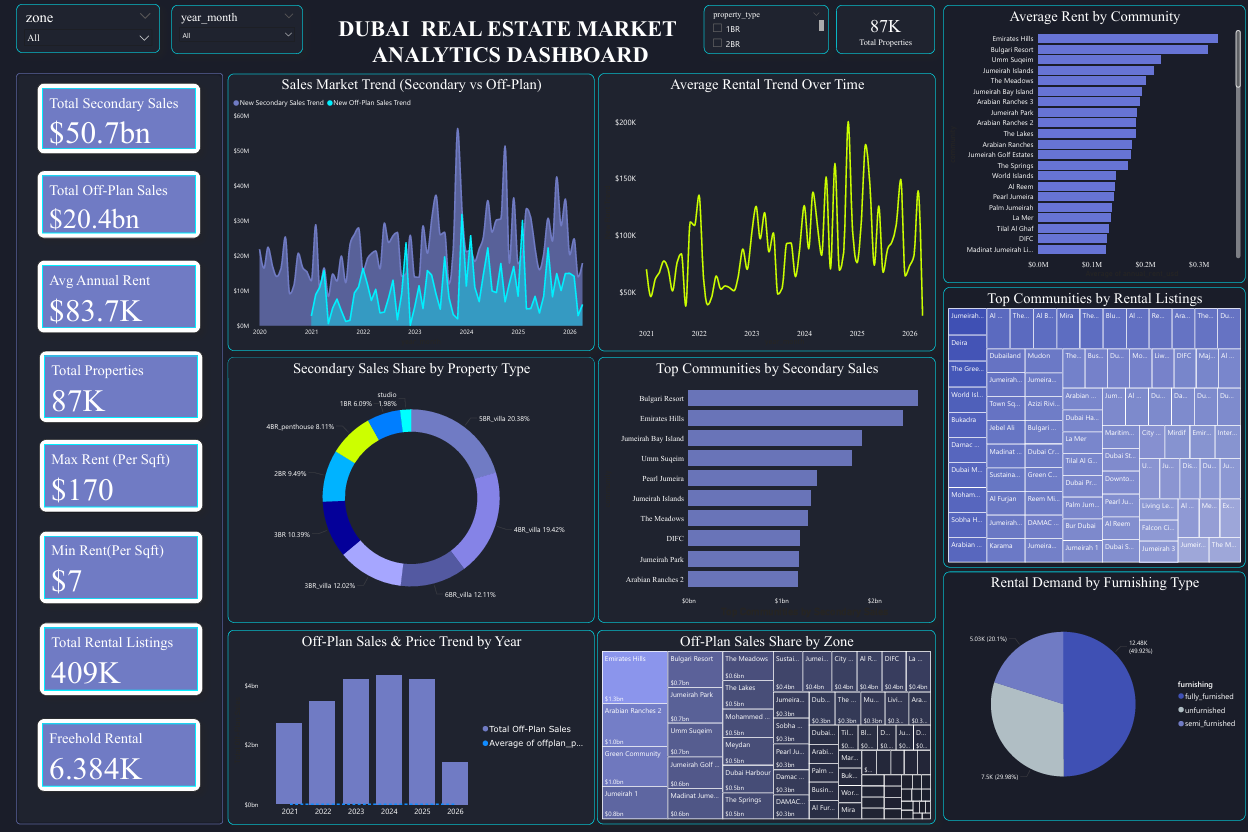

Layout of this report page (visuals, bound fields, positions):
{"tool":"powerbi","page":{"name":"Page 1","canvas":[2413,2400],"ordinal":0},"visuals":[{"type":"shape","box":[40,153.3,396.7,1441.7],"z":0},{"type":"cardVisual","fields":{"Data":["area_prices_monthly.Total Secondary Sales"]},"box":[80,172,314,136],"z":1000},{"type":"cardVisual","fields":{"Data":["area_prices_monthly.Total Off-Plan Sales"]},"box":[80,340,314,130],"z":2000},{"type":"cardVisual","fields":{"Data":["area_prices_monthly.Avg Annual Rent"]},"box":[80,512,314,140],"z":3000},{"type":"cardVisual","fields":{"Data":["area_prices_monthly.Total Properties"]},"box":[84,686,314,138],"z":4000},{"type":"areaChart","title":"Sales Market Trend (Secondary vs Off-Plan)","fields":{"Category":["area_prices_monthly.year_month"],"Y":["secondary_sales.New Secondary Sales Trend","secondary_sales.New Off-Plan Sales Trend"]},"box":[446,154,704,532],"z":5000},{"type":"lineChart","title":"Average Rental Trend Over Time","fields":{"Category":["area_prices_monthly.year_month"],"Y":["area_prices_monthly.New Rent Trend"]},"box":[1156.7,153.3,648.3,533.3],"z":6000},{"type":"donutChart","title":"Secondary Sales Share by Property Type","fields":{"Category":["secondary_sales.property_type"],"Y":["area_prices_monthly.Total Secondary Sales"]},"box":[446,698,704,510],"z":7000},{"type":"clusteredBarChart","title":"Top Communities by Secondary Sales","fields":{"Category":["secondary_sales.community"],"Y":["secondary_sales.New Secondary Sales Trend"]},"box":[1156.7,698.3,648.3,510],"z":8000},{"type":"cardVisual","fields":{"Data":["Max(area_prices_monthly.rental_price_per_sqft_annual_usd)"]},"box":[84,856,314,140],"z":9000},{"type":"cardVisual","fields":{"Data":["Min(area_prices_monthly.rental_price_per_sqft_annual_usd)"]},"box":[84,1032,314,140],"z":10000},{"type":"cardVisual","fields":{"Data":["Sum(area_prices_monthly.n_listings_rental)"]},"box":[84,1208,314,140],"z":11000},{"type":"cardVisual","fields":{"Data":["CountNonNull(area_prices_monthly.is_freehold)"]},"box":[80,1392,314,140],"z":12000},{"type":"textbox","title":"DUBAI REAL ESTATE MARKET ANALYTICS","box":[522,38,922,116],"z":13000},{"type":"lineStackedColumnComboChart","title":"Off-Plan Sales & Price Trend by Year","fields":{"Category":["off_plan.date_listed.Variation.Date Hierarchy.Year"],"Y":["area_prices_monthly.Total Off-Plan Sales"],"Y2":["Avg(area_prices_monthly.offplan_price_per_sqft_usd)"]},"box":[446,1222,704,374],"z":14000},{"type":"treemap","title":"Off-Plan Sales Share by Zone","fields":{"Group":["off_plan.community"],"Values":["area_prices_monthly.Total Off-Plan Sales"]},"box":[1155,1221.7,650,373.3],"z":15000},{"type":"slicer","fields":{"Values":["area_prices_monthly.zone"]},"box":[40,20,276,94],"z":16000},{"type":"card","fields":{"Values":["area_prices_monthly.Total Properties"]},"box":[1614,22,190,94],"z":17000},{"type":"slicer","fields":{"Values":["area_prices_monthly.year_month"]},"box":[338,22,252,94],"z":18000},{"type":"slicer","fields":{"Values":["rentals.property_type"]},"box":[1360,22,240,94],"z":19000},{"type":"clusteredBarChart","title":"Average Rent by Community","fields":{"Category":["rentals.community"],"Y":["Avg(rentals.annual_rent_usd)"]},"box":[1820,22,580,534],"z":20000},{"type":"treemap","title":"Top Communities by Rental Listings","fields":{"Group":["rentals.community"],"Values":["Count(rentals.id)"]},"box":[1820,564,580,538],"z":21000},{"type":"pieChart","title":"Rental Demand by Furnishing Type","fields":{"Category":["rentals.furnishing"],"Y":["CountNonNull(rentals.id)"]},"box":[1820,1110,580,478],"z":22000}]}

Visuals, with their boxes on the page's 2413x2400 design canvas (x1, y1, x2, y2). These are canvas units, not pixel positions in the 1248x832 screenshot, which may show the page scaled, cropped or inside an application window:
shape: (40,153,437,1595)
cardVisual - area_prices_monthly.Total Secondary Sales: (80,172,394,308)
cardVisual - area_prices_monthly.Total Off-Plan Sales: (80,340,394,470)
cardVisual - area_prices_monthly.Avg Annual Rent: (80,512,394,652)
cardVisual - area_prices_monthly.Total Properties: (84,686,398,824)
"Sales Market Trend (Secondary vs Off-Plan)" areaChart: (446,154,1150,686)
"Average Rental Trend Over Time" lineChart: (1157,153,1805,687)
"Secondary Sales Share by Property Type" donutChart: (446,698,1150,1208)
"Top Communities by Secondary Sales" clusteredBarChart: (1157,698,1805,1208)
cardVisual - Max(area_prices_monthly.rental_price_per_sqft_annual_usd): (84,856,398,996)
cardVisual - Min(area_prices_monthly.rental_price_per_sqft_annual_usd): (84,1032,398,1172)
cardVisual - Sum(area_prices_monthly.n_listings_rental): (84,1208,398,1348)
cardVisual - CountNonNull(area_prices_monthly.is_freehold): (80,1392,394,1532)
"DUBAI REAL ESTATE MARKET ANALYTICS" textbox: (522,38,1444,154)
"Off-Plan Sales & Price Trend by Year" lineStackedColumnComboChart: (446,1222,1150,1596)
"Off-Plan Sales Share by Zone" treemap: (1155,1222,1805,1595)
slicer - area_prices_monthly.zone: (40,20,316,114)
card - area_prices_monthly.Total Properties: (1614,22,1804,116)
slicer - area_prices_monthly.year_month: (338,22,590,116)
slicer - rentals.property_type: (1360,22,1600,116)
"Average Rent by Community" clusteredBarChart: (1820,22,2400,556)
"Top Communities by Rental Listings" treemap: (1820,564,2400,1102)
"Rental Demand by Furnishing Type" pieChart: (1820,1110,2400,1588)
